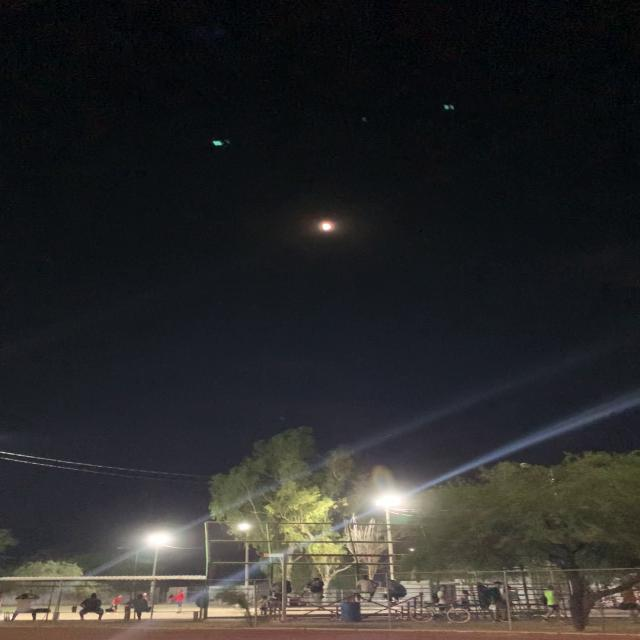moon: (307, 208, 349, 236)
